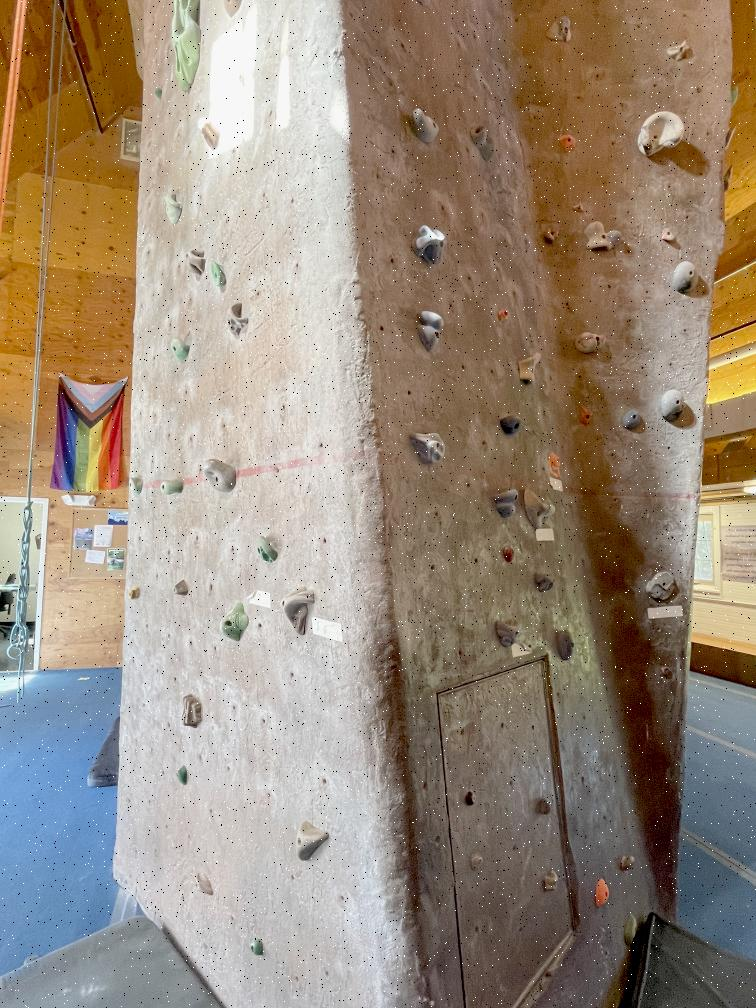Crimp: (664, 37, 695, 64), (558, 133, 580, 154), (548, 450, 564, 469), (581, 406, 596, 424)
Edges: (167, 0, 206, 95), (176, 690, 206, 735)
Foothold: (594, 877, 613, 908), (624, 917, 642, 948), (542, 868, 564, 893), (538, 793, 557, 817), (466, 853, 487, 874), (545, 223, 562, 246), (618, 852, 638, 871), (660, 225, 680, 244), (175, 767, 193, 788), (248, 940, 270, 957), (172, 580, 192, 596), (502, 545, 517, 564), (496, 308, 514, 323), (464, 794, 481, 807), (570, 202, 586, 215), (127, 588, 141, 602), (662, 665, 673, 678), (154, 86, 164, 98)
Hand-holds: (211, 260, 231, 288)
Jug: (636, 106, 684, 159), (280, 585, 318, 638), (293, 822, 337, 860), (196, 457, 240, 495), (409, 424, 450, 464), (468, 121, 503, 165), (524, 489, 558, 530), (586, 219, 622, 254), (644, 569, 678, 604), (224, 603, 253, 642), (496, 615, 529, 649), (225, 302, 254, 339), (252, 532, 282, 564), (518, 350, 543, 387), (550, 16, 580, 46), (496, 484, 522, 518), (162, 191, 185, 227), (533, 569, 559, 596), (169, 339, 192, 361), (501, 415, 523, 438), (127, 476, 147, 494)
Pinch: (194, 117, 224, 148), (557, 624, 577, 659), (159, 477, 185, 498)
Pocket: (181, 246, 210, 278), (623, 407, 642, 432)
Sloper: (415, 223, 448, 267), (420, 308, 448, 355), (410, 108, 442, 144), (661, 388, 690, 424), (672, 260, 697, 295), (575, 329, 610, 353), (193, 871, 220, 898)
